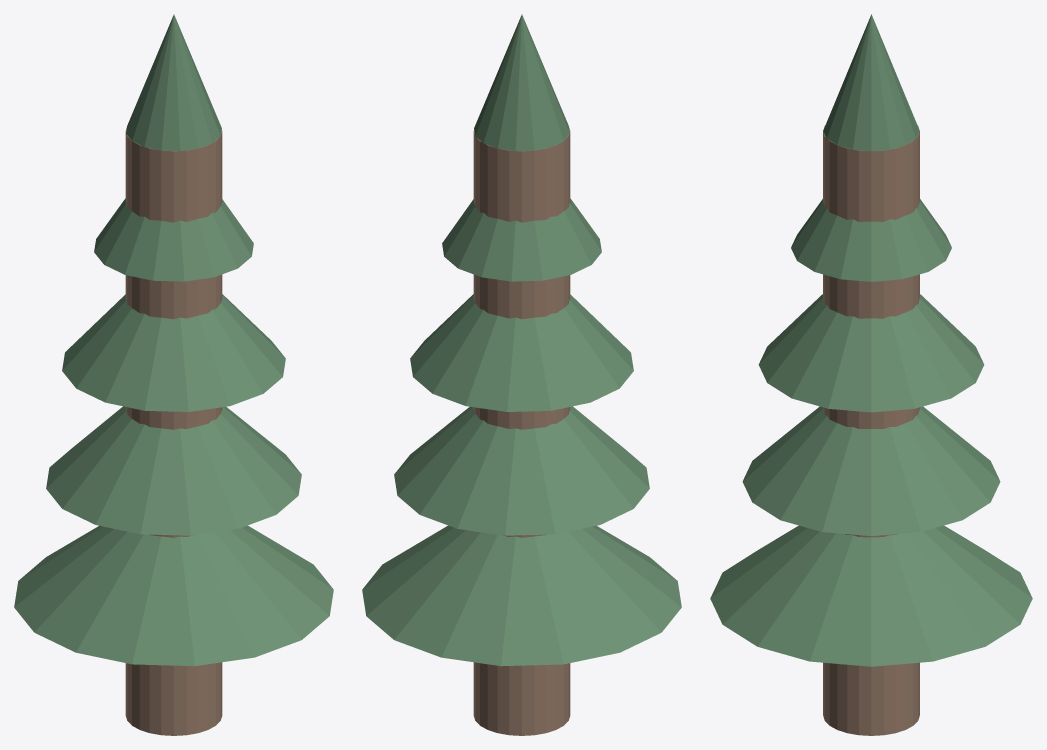
Rendered from pine_mature_1744381534.glb.
The picture shows the model from 3 angles, left to right: view 1: azimuth 30°, elevation 25°; view 2: azimuth 150°, elevation 25°; view 3: azimuth 270°, elevation 25°; orthographic projection.
Visible parts, largest first — view 1: Pine_Mature_Layer_1, Pine_Mature_Layer_2, Pine_Mature_Trunk, Pine_Mature_Layer_3, Pine_Mature_Layer_4, Pine_Mature_Layer_5; view 2: Pine_Mature_Layer_1, Pine_Mature_Layer_2, Pine_Mature_Trunk, Pine_Mature_Layer_3, Pine_Mature_Layer_4, Pine_Mature_Layer_5; view 3: Pine_Mature_Layer_1, Pine_Mature_Layer_2, Pine_Mature_Trunk, Pine_Mature_Layer_3, Pine_Mature_Layer_4, Pine_Mature_Layer_5.
Part boxes in pixels (box(x1,y1,x2,y2)): Pine_Mature_Layer_1: box(14, 525, 333, 666); Pine_Mature_Layer_2: box(46, 406, 301, 535); Pine_Mature_Trunk: box(125, 127, 222, 735); Pine_Mature_Layer_3: box(62, 294, 285, 411); Pine_Mature_Layer_4: box(94, 198, 253, 281); Pine_Mature_Layer_5: box(126, 14, 221, 151); Pine_Mature_Layer_1: box(362, 525, 681, 666); Pine_Mature_Layer_2: box(394, 406, 649, 535); Pine_Mature_Trunk: box(473, 127, 570, 735); Pine_Mature_Layer_3: box(410, 294, 633, 411); Pine_Mature_Layer_4: box(442, 198, 601, 281); Pine_Mature_Layer_5: box(474, 14, 569, 151); Pine_Mature_Layer_1: box(710, 525, 1032, 666); Pine_Mature_Layer_2: box(742, 406, 1000, 536); Pine_Mature_Trunk: box(823, 125, 919, 735); Pine_Mature_Layer_3: box(758, 294, 984, 412); Pine_Mature_Layer_4: box(791, 199, 951, 281); Pine_Mature_Layer_5: box(823, 14, 919, 151).
Bounding box in the file's own units: 1 × 2.4 × 1.
